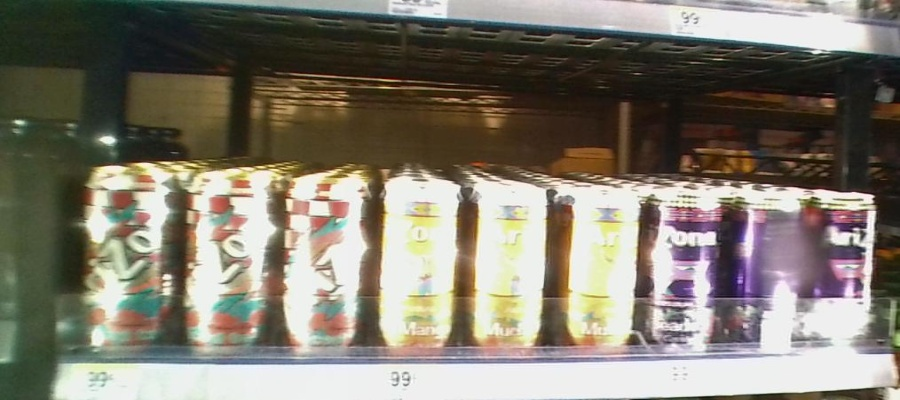bottle: (75, 155, 178, 354), (280, 158, 374, 358), (184, 165, 278, 355), (378, 163, 463, 358), (470, 162, 552, 352), (558, 172, 643, 355), (646, 162, 724, 358), (727, 168, 806, 350), (810, 177, 882, 345)
